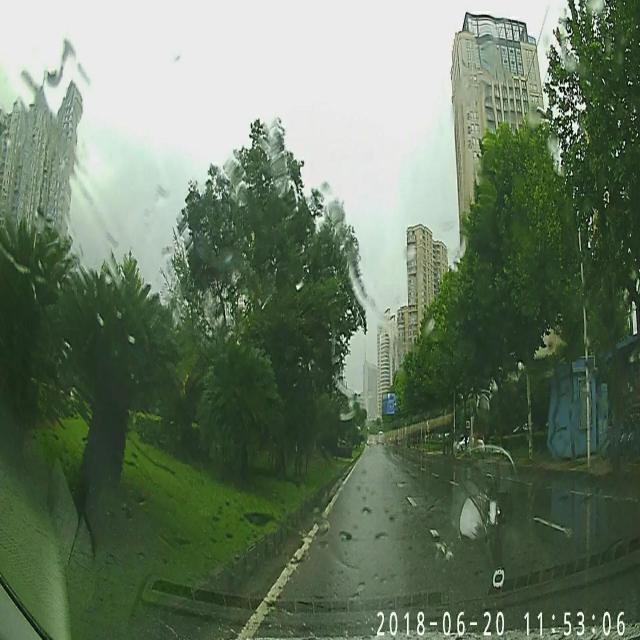car: (454, 436, 484, 451), (378, 429, 386, 444)
